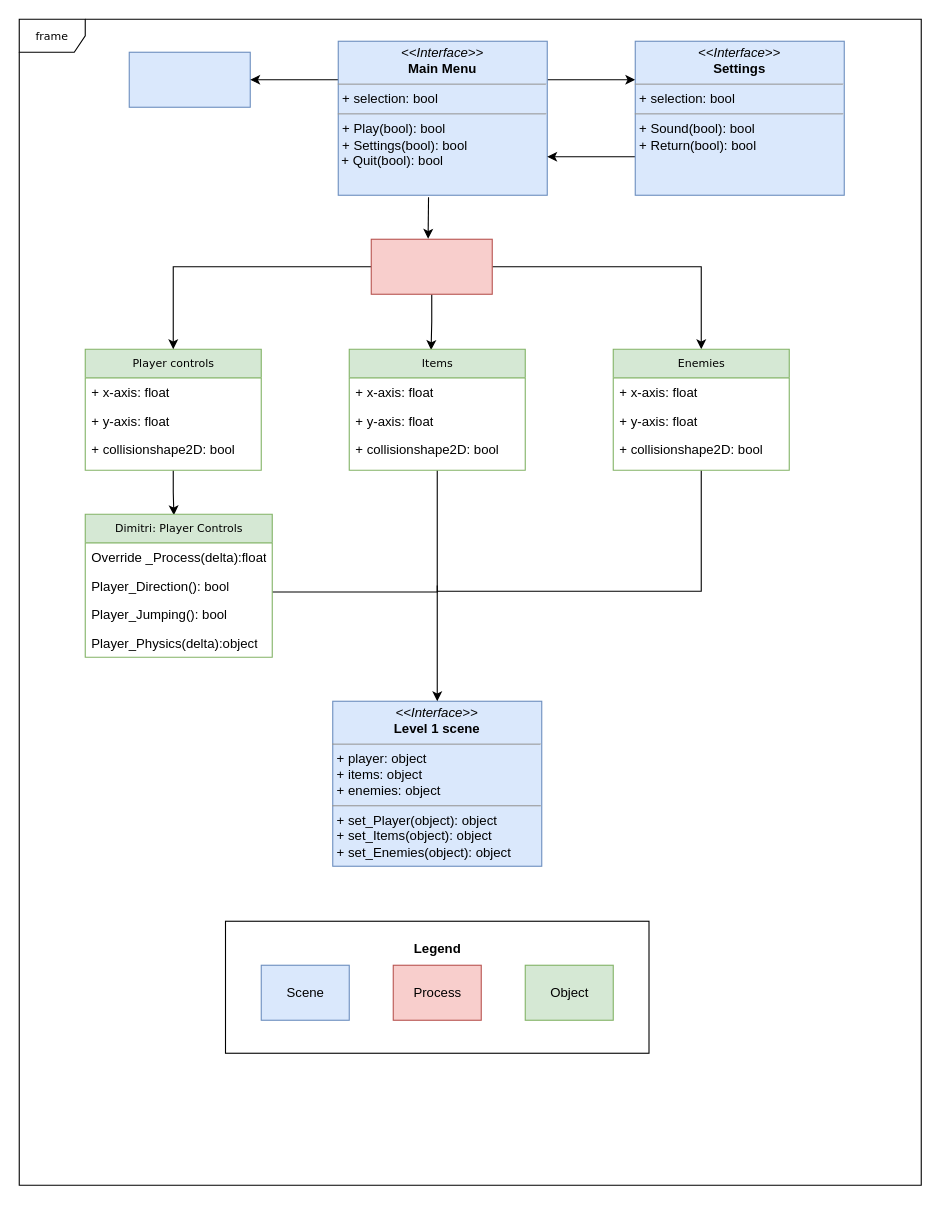
The diagram is 941 pixels wide and 1205 high, and some of its shapes have lost their labels. Here are the shapes that lost their labels. From the top down, the centre of each, then its label:
At (x=189, y=79): "«interface» Quit".
At (x=431, y=266): "<<process>> Initialize Scene Objects".
